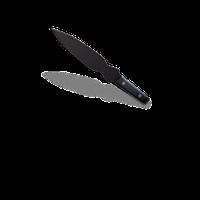knife: (46, 23, 148, 104)
